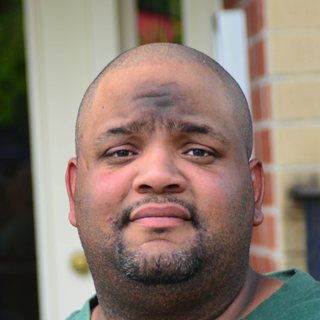eye: (173, 141, 223, 164), (99, 140, 143, 166)
